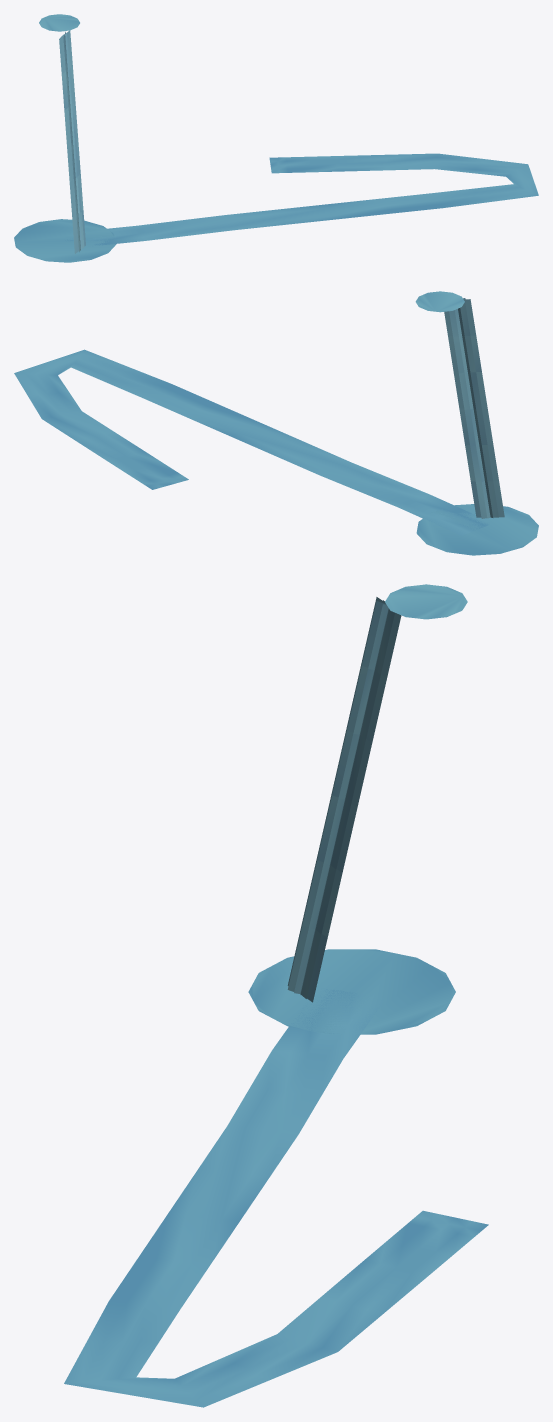
File: connections.glb
3 views of the same model, one above another, from view 1: azimuth 30°, elevation 25°; view 2: azimuth 150°, elevation 25°; view 3: azimuth 270°, elevation 25° (orthographic). The views are drawn at different scales.
Visible parts, largest first — view 1: water_river, pool_basin, waterfall_cascade, spout_source_pool; view 2: water_river, waterfall_cascade, pool_basin, spout_source_pool; view 3: water_river, pool_basin, waterfall_cascade, spout_source_pool.
Part boxes in pixels (x1=…): water_river: x1=65, y1=153, x2=538, y2=246; pool_basin: x1=14, y1=219, x2=116, y2=262; waterfall_cascade: x1=59, y1=30, x2=85, y2=253; spout_source_pool: x1=39, y1=14, x2=79, y2=31; water_river: x1=14, y1=349, x2=489, y2=535; waterfall_cascade: x1=444, y1=298, x2=504, y2=518; pool_basin: x1=416, y1=504, x2=538, y2=555; spout_source_pool: x1=415, y1=291, x2=464, y2=312; water_river: x1=64, y1=989, x2=488, y2=1407; pool_basin: x1=248, y1=949, x2=455, y2=1034; waterfall_cascade: x1=287, y1=597, x2=401, y2=1002; spout_source_pool: x1=385, y1=584, x2=467, y2=619.
Size of the model in its own units: 73.12 by 29.95 by 28.68.
